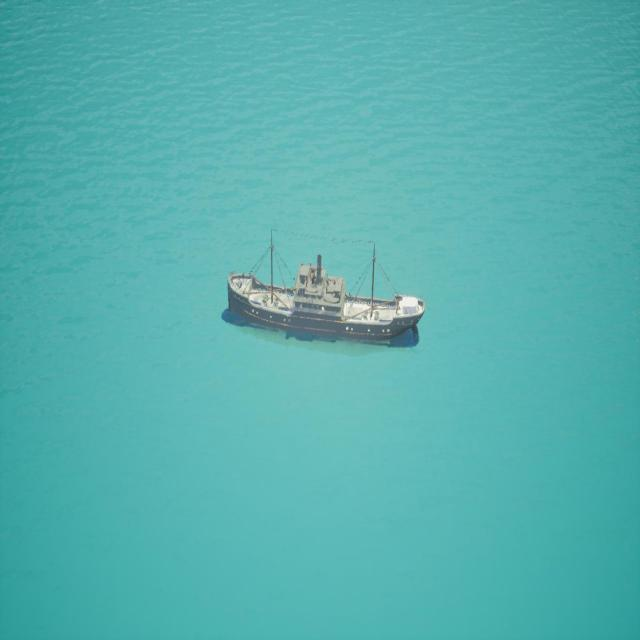fishing ship: (227, 235, 425, 345)
